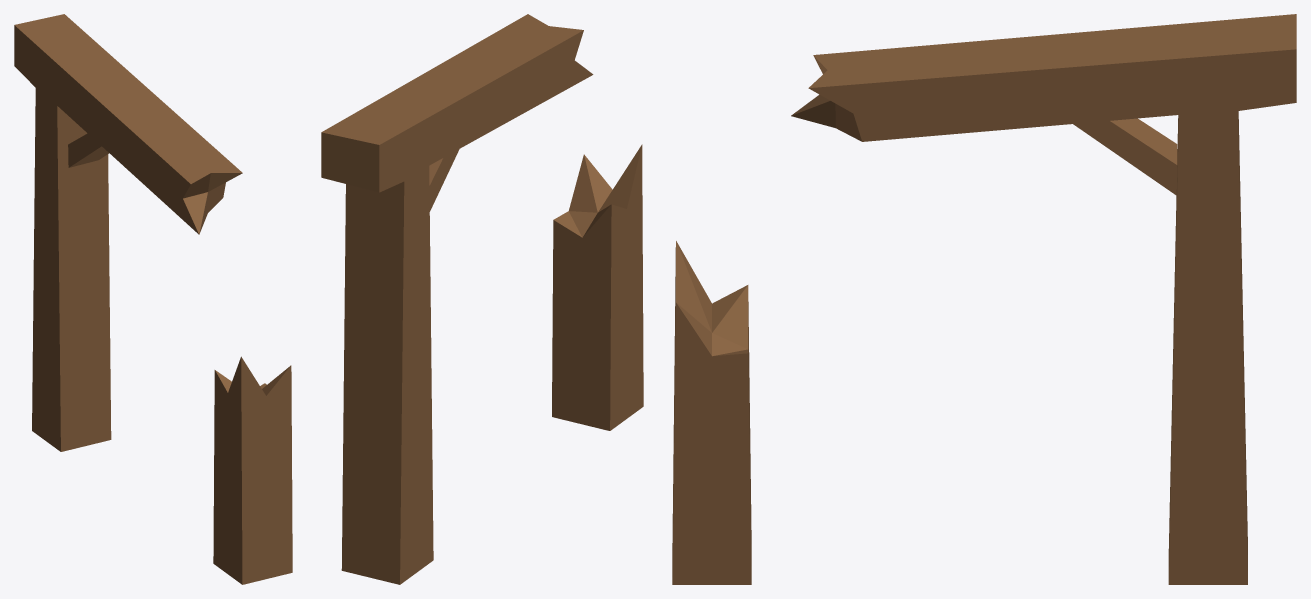
Rendered from MineBrokenFrame02.fbx.
3 views of the same model, side by side, from view 1: azimuth 30°, elevation 25°; view 2: azimuth 150°, elevation 25°; view 3: azimuth 270°, elevation 25° (orthographic). The views are drawn at different scales.
Parts seen in each view (by area): view 1: MineBrokenFrame02; view 2: MineBrokenFrame02; view 3: MineBrokenFrame02.
Boxes of the visible parts, x1,y1,x2,y2 form: MineBrokenFrame02: (14,14,292,584); MineBrokenFrame02: (321,14,643,584); MineBrokenFrame02: (672,14,1296,584).
Bounding box in the file's own units: 396 × 377 × 50.42.
